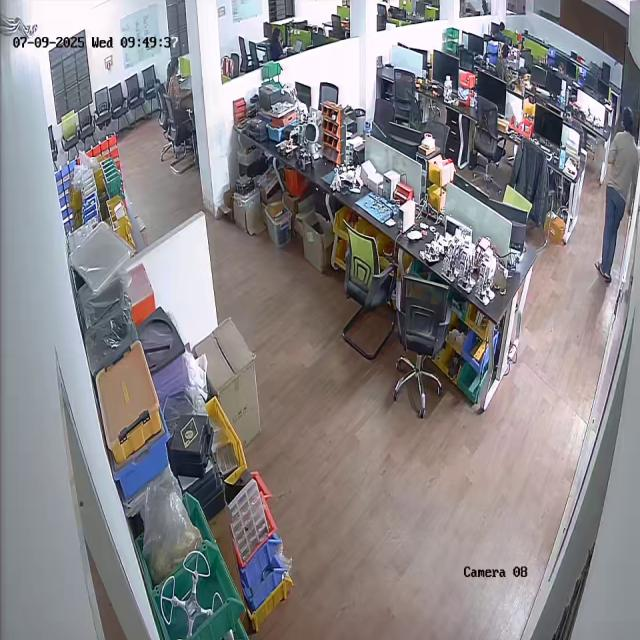person: (597, 106, 637, 277)
